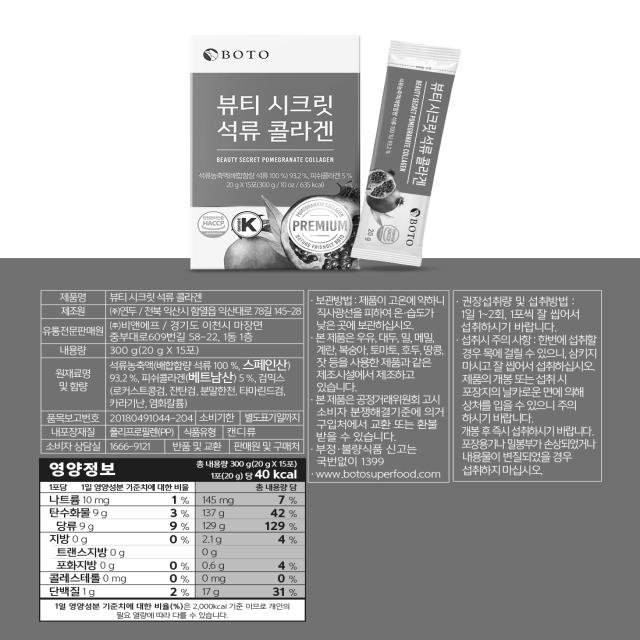Nutrition Label: (25, 455, 324, 625)
